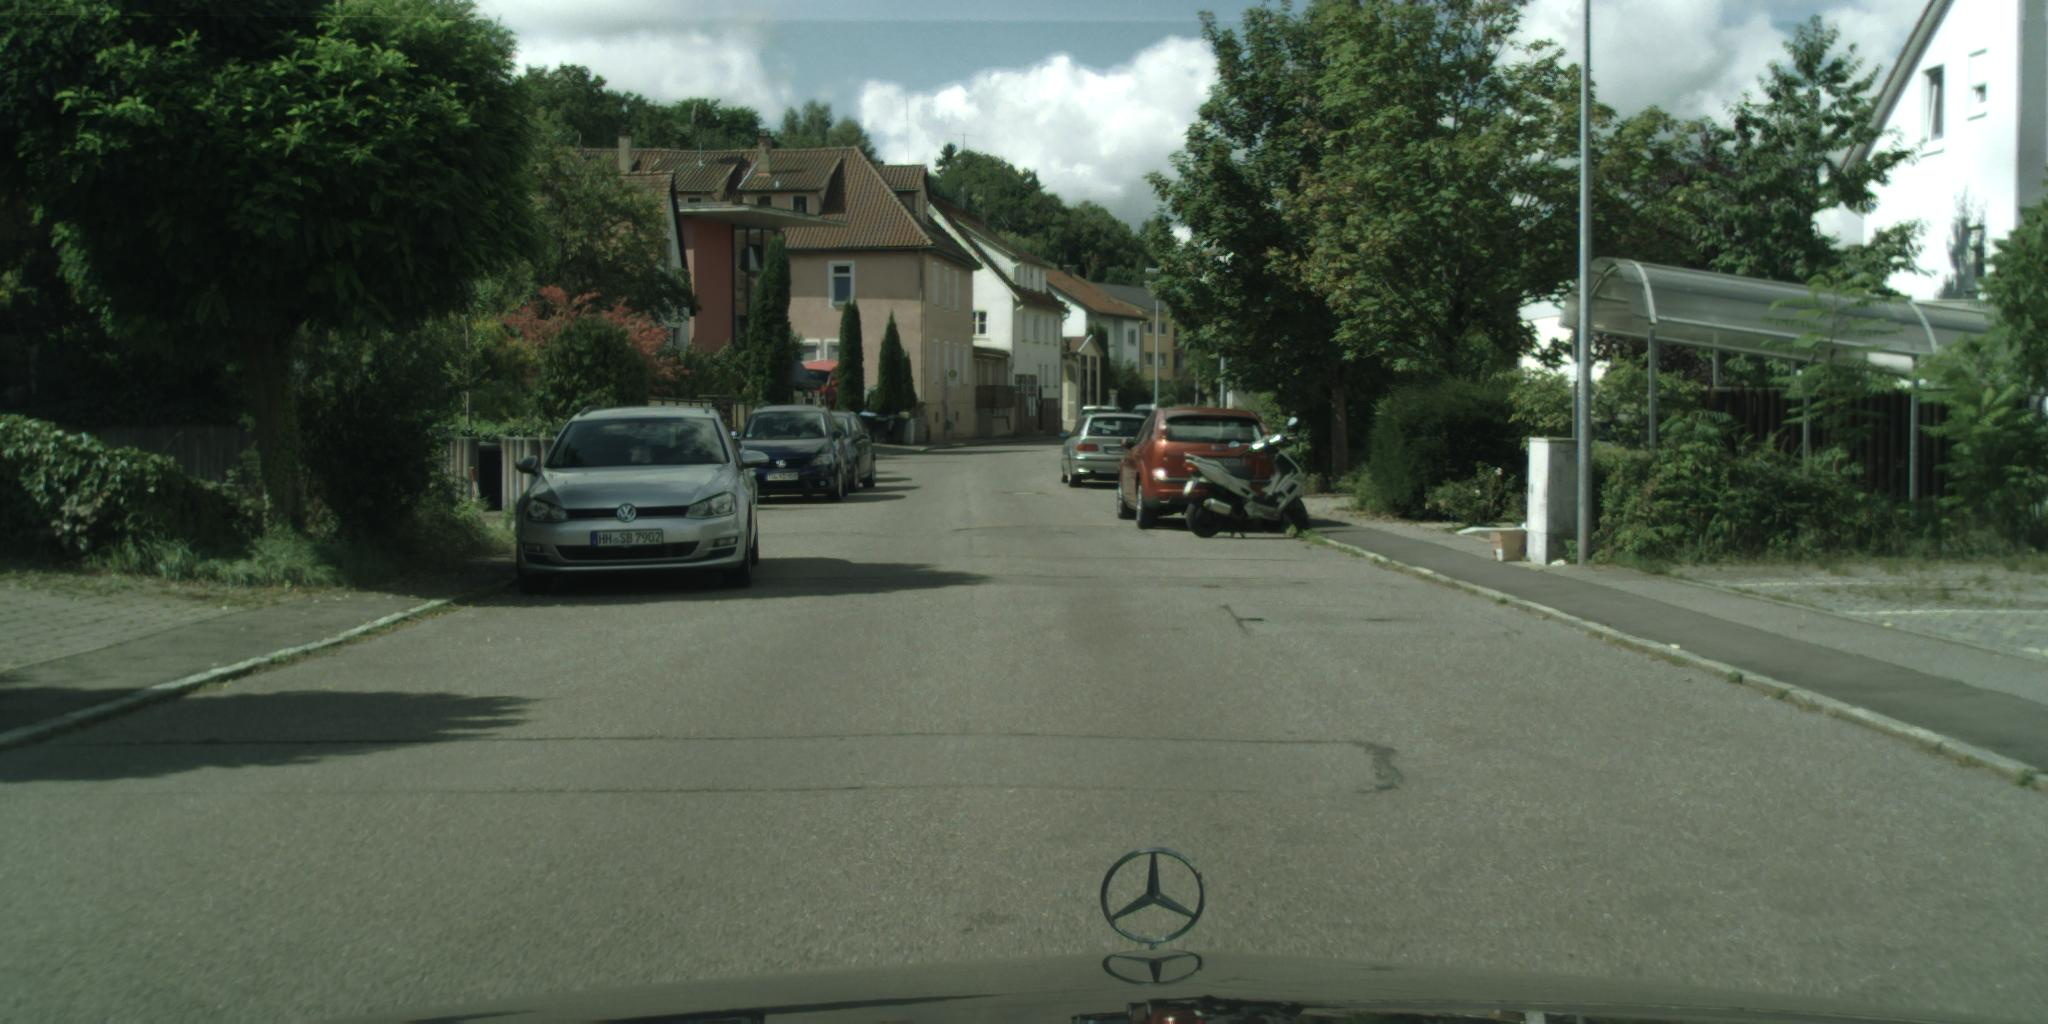car: (515, 405, 771, 597), (1115, 408, 1285, 534), (728, 405, 849, 503), (803, 413, 879, 500), (1057, 414, 1145, 488), (1074, 406, 1127, 443), (1126, 405, 1172, 432)
motorcycle: (1182, 418, 1311, 542)
